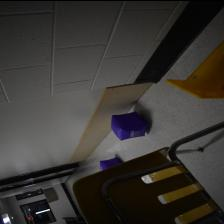cone: (165, 38, 224, 98)
cube: (110, 110, 149, 140), (99, 155, 123, 170)
